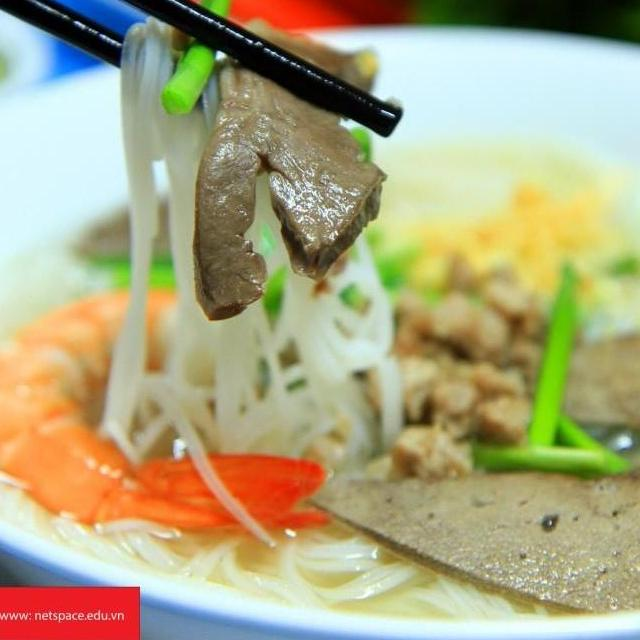banh hu tieu: (81, 8, 412, 490)
gan: (294, 433, 640, 623), (501, 304, 640, 460)
hu tieu: (0, 30, 640, 640), (39, 498, 562, 628)
thit bam: (354, 242, 576, 494)
tom: (0, 275, 337, 539)
